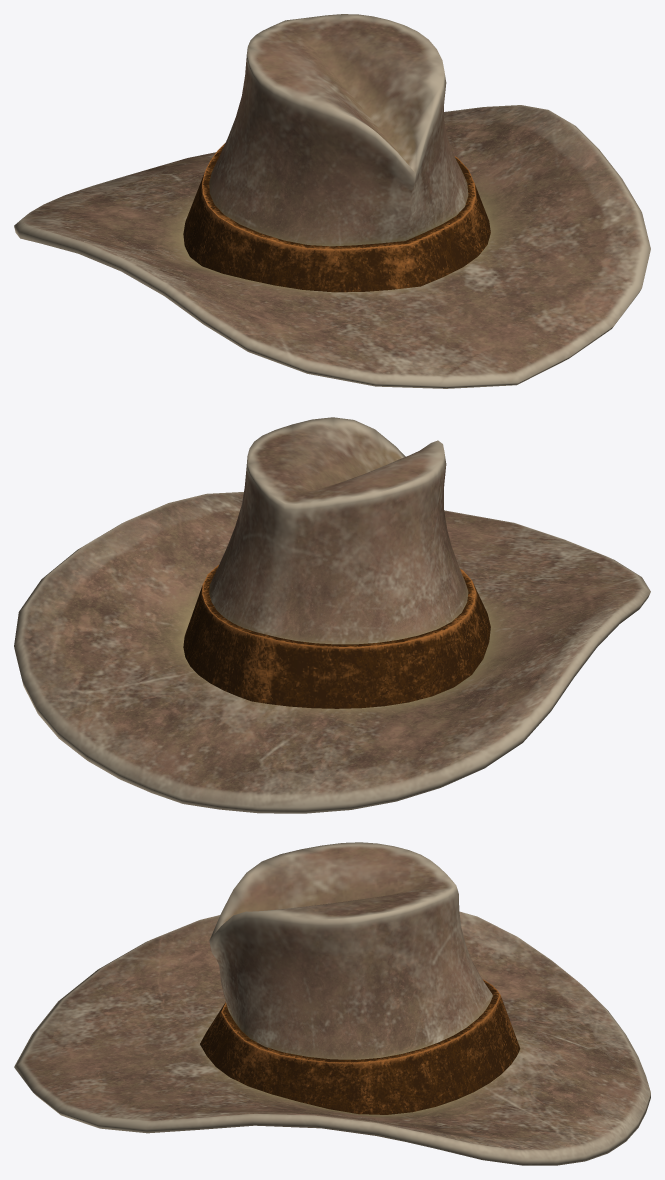
The model's file is Chicos_hat.fbx.
3 renders of one model, top to bottom at view 1: azimuth 30°, elevation 25°; view 2: azimuth 150°, elevation 25°; view 3: azimuth 270°, elevation 25°, orthographic. The views are drawn at different scales.
Parts seen in each view (by area): view 1: Chicos_Hat; view 2: Chicos_Hat; view 3: Chicos_Hat.
Part boxes in pixels (<box>): Chicos_Hat: <box>14,14,650,388</box>; Chicos_Hat: <box>14,417,650,813</box>; Chicos_Hat: <box>14,842,650,1165</box>.
Bounding box in the file's own units: 57.79 × 24.99 × 65.79.
